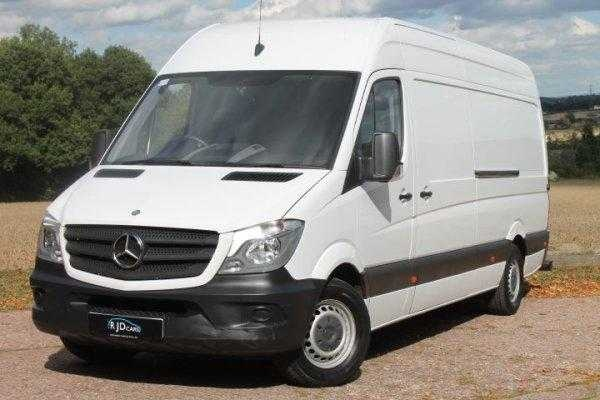van: (30, 16, 551, 388)
